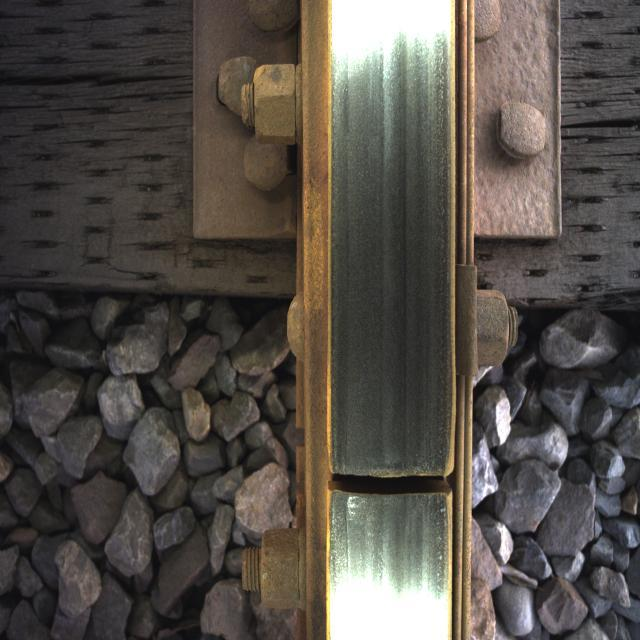spalling: (305, 433, 483, 532)
